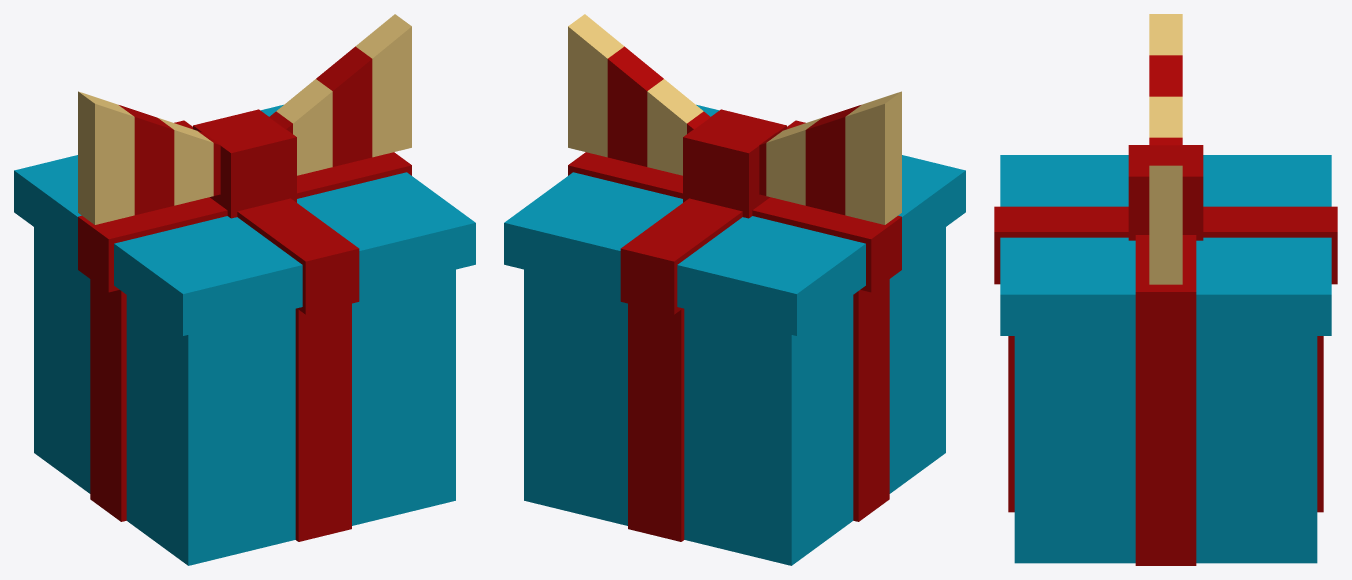
Rendered from 004 Gift_Box.fbx.
3 views of the same model, side by side, from view 1: azimuth 30°, elevation 25°; view 2: azimuth 150°, elevation 25°; view 3: azimuth 270°, elevation 25° (orthographic). The views are drawn at different scales.
Visible parts, largest first — view 1: Lowpoly_Christmas_Pack_04:pCube4; view 2: Lowpoly_Christmas_Pack_04:pCube4; view 3: Lowpoly_Christmas_Pack_04:pCube4.
Boxes of the visible parts, box(x1,y1,x2,y2) form: Lowpoly_Christmas_Pack_04:pCube4: box(14, 14, 475, 565); Lowpoly_Christmas_Pack_04:pCube4: box(504, 14, 965, 565); Lowpoly_Christmas_Pack_04:pCube4: box(994, 14, 1337, 565).
Size of the model in its own units: 1.78 by 2.24 by 1.7.
